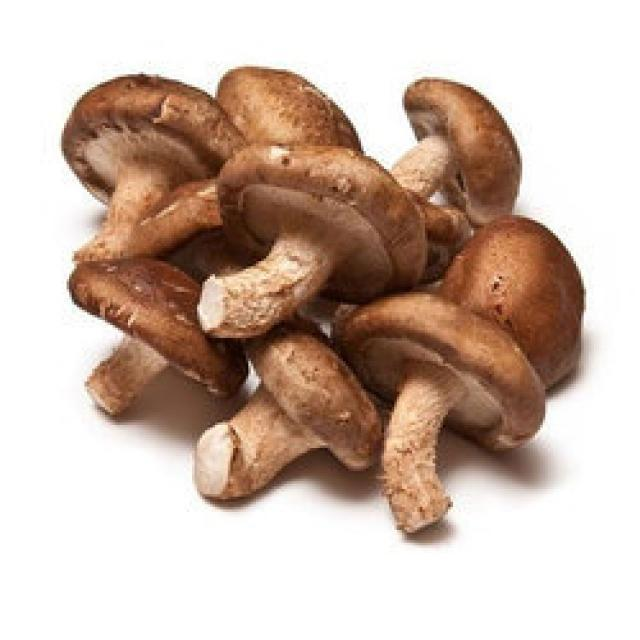Lentinus edodes: (333, 292, 545, 532), (191, 142, 431, 335), (196, 319, 389, 504), (63, 72, 241, 265), (67, 258, 249, 419), (444, 219, 585, 396), (390, 78, 521, 221), (214, 66, 363, 150)
